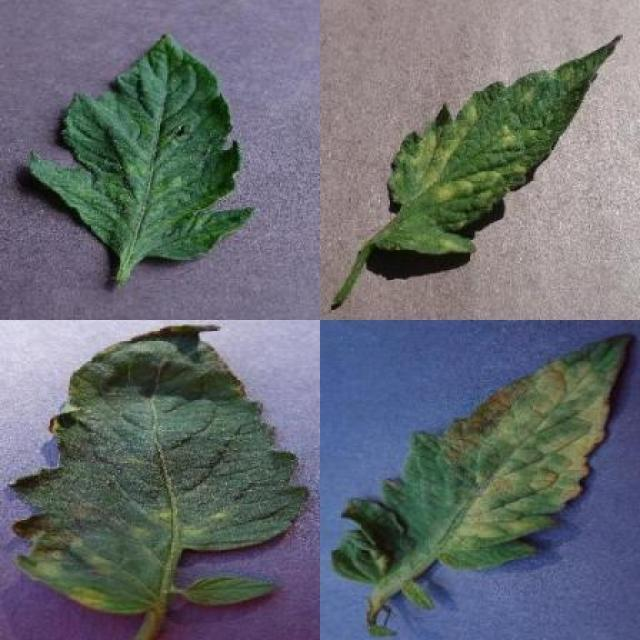Leaf Mold: (10, 323, 309, 614), (332, 334, 634, 579), (368, 34, 622, 256)
Mosaic Virus: (29, 31, 257, 260)
